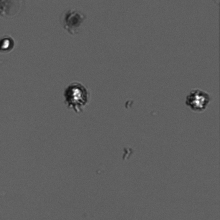Dead Cell: (63, 11, 84, 29)
Living Cell: (64, 83, 89, 107), (186, 90, 209, 111), (1, 34, 16, 53)
